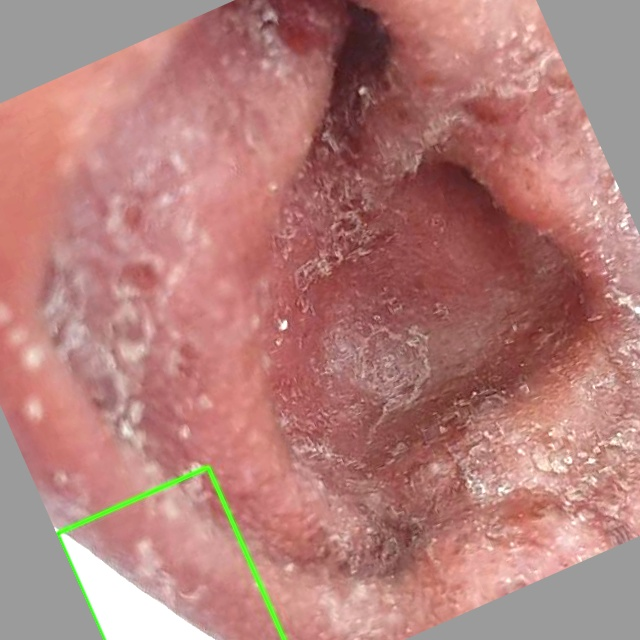Eczema: (57, 467, 284, 639)
